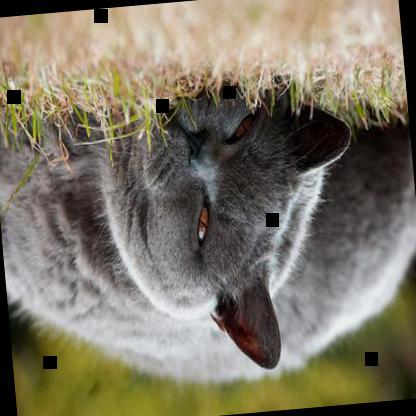cat: (0, 57, 415, 404)
